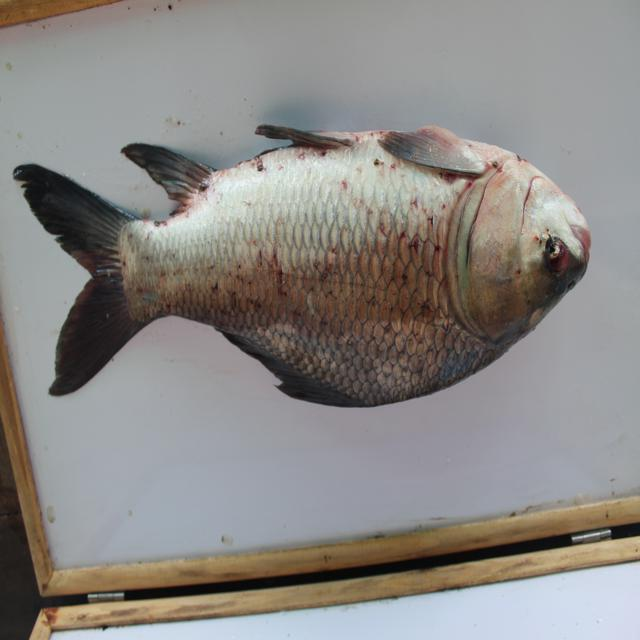Catla: (7, 107, 606, 415)
